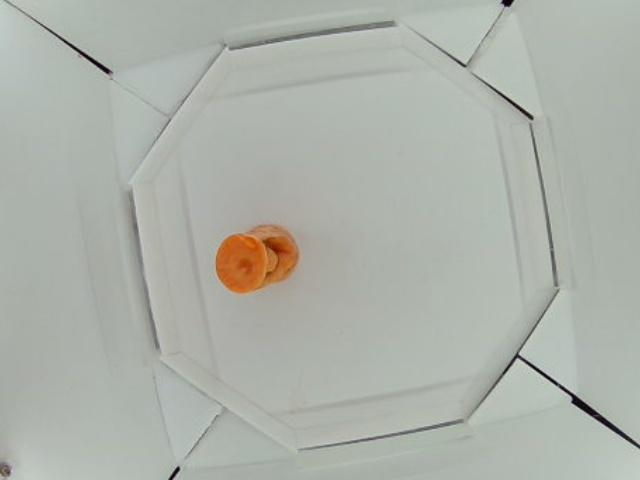Carrot: (215, 221, 298, 292)
